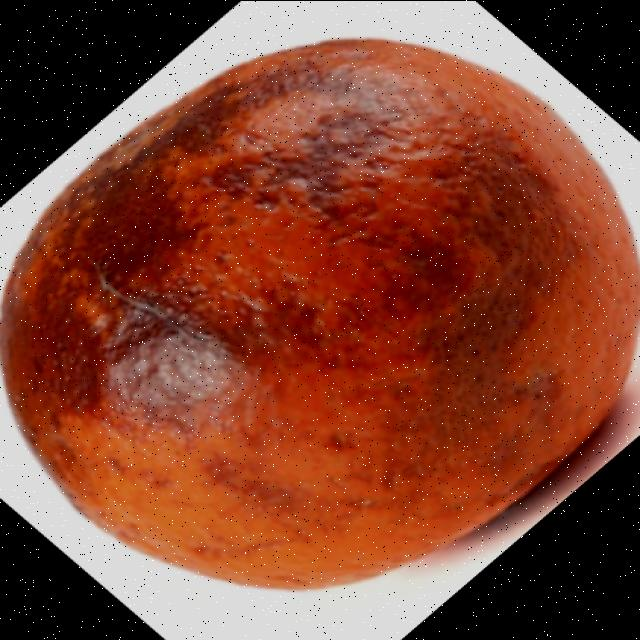overripe: (0, 28, 640, 596)
